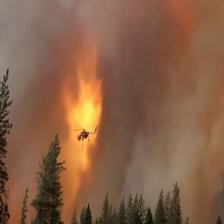fire: (43, 55, 122, 211)
